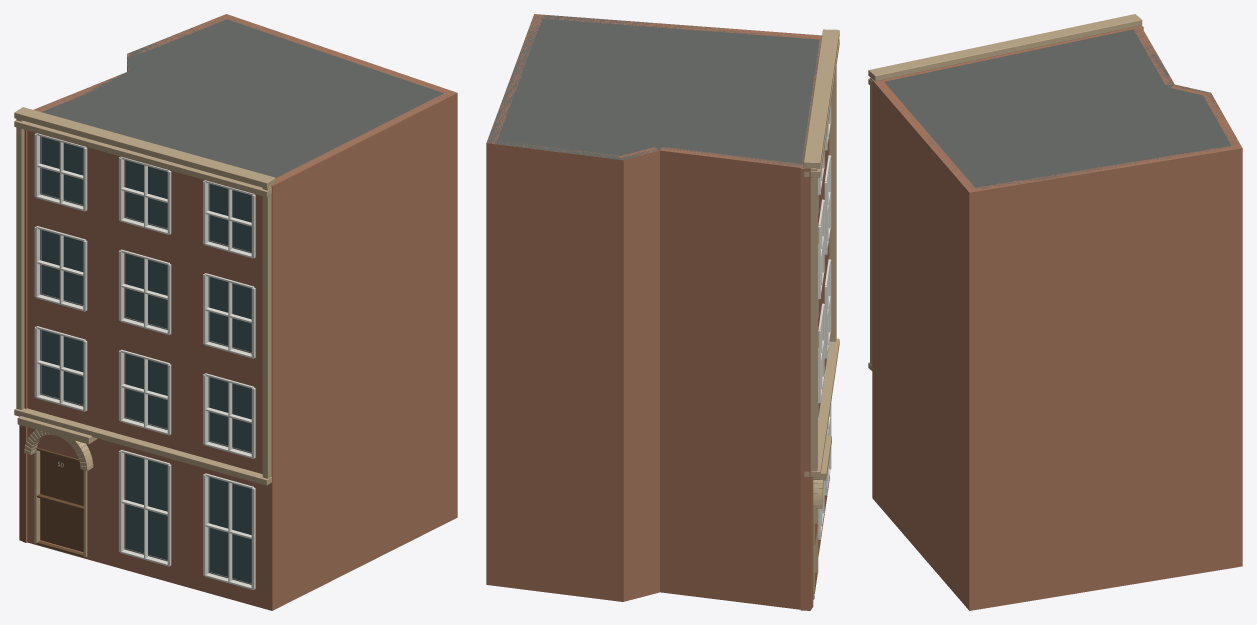
The model's file is 50l-exterior-17c8fc3fa693.glb.
3 views of the same model, side by side, from view 1: azimuth 30°, elevation 25°; view 2: azimuth 150°, elevation 25°; view 3: azimuth 270°, elevation 25° (orthographic). The views are drawn at different scales.
Parts seen in each view (by area): view 1: 50L.001; view 2: 50L.001; view 3: 50L.001.
Part boxes in pixels (x1,y1,x2,y2): 50L.001: [14, 14, 457, 610]; 50L.001: [486, 14, 839, 610]; 50L.001: [868, 14, 1242, 610].
Size of the model in its own units: 10.92 by 12.48 by 9.97.
